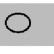no answer: (2, 10, 34, 38)
